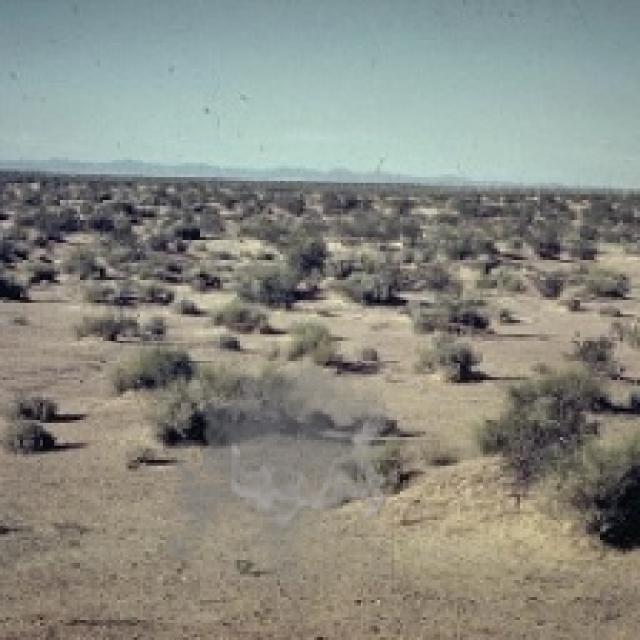smoke: (157, 340, 394, 594)
